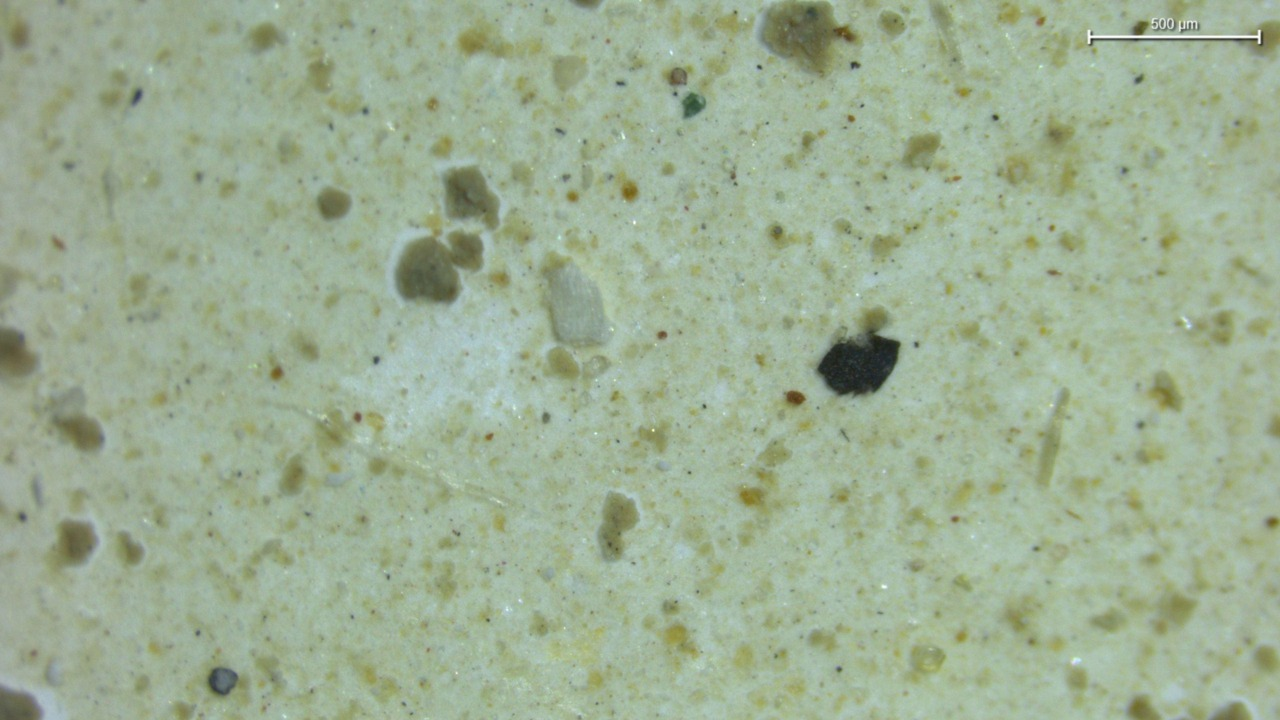microplastic_fragment: (546, 263, 611, 345), (817, 333, 900, 394)
